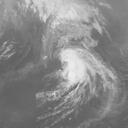cyclone: (52, 45, 100, 92)
